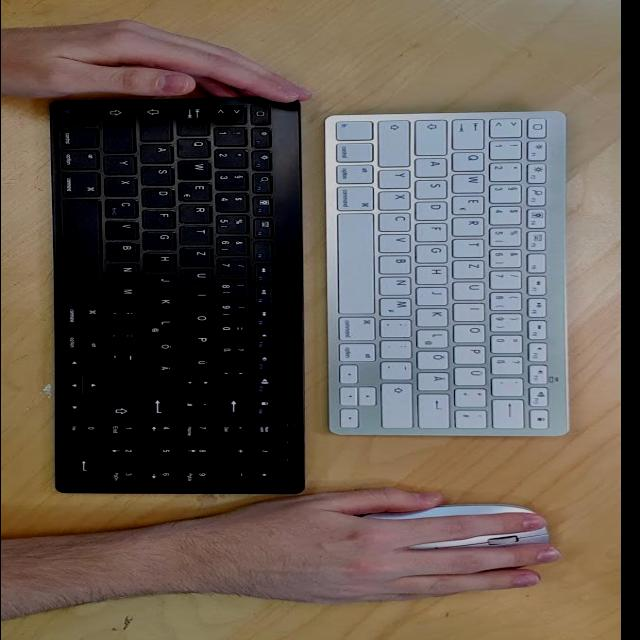0: (220, 320, 254, 340), (491, 334, 524, 352)
1: (491, 139, 525, 159), (217, 125, 250, 145)
2: (217, 148, 251, 168), (489, 163, 523, 182)
3: (217, 169, 251, 189), (491, 183, 525, 202)
4: (218, 191, 252, 211), (489, 206, 522, 224)
5: (218, 212, 253, 232), (490, 228, 523, 246)
6: (219, 234, 253, 254), (490, 249, 523, 267)
7: (219, 257, 253, 276), (492, 270, 525, 288)
8: (219, 277, 253, 297), (492, 291, 525, 310)
9: (492, 311, 526, 331), (220, 299, 254, 318)
a: (140, 143, 174, 163), (415, 157, 449, 177)
accent: (494, 376, 527, 395), (221, 364, 254, 382)
ae: (419, 371, 453, 390), (148, 359, 181, 377)
alt-left: (337, 164, 377, 184), (62, 151, 100, 170)
altgr-right: (338, 342, 378, 362), (66, 331, 104, 350)
b: (381, 253, 415, 273), (109, 240, 143, 260)
c: (107, 197, 142, 217), (381, 211, 415, 230)
comma: (110, 305, 144, 324), (382, 317, 416, 336)
d: (417, 200, 451, 220), (145, 186, 179, 206)
del: (220, 386, 254, 416), (495, 397, 528, 427)
e: (454, 194, 488, 214), (181, 180, 215, 200)
enter: (418, 392, 453, 428), (147, 381, 181, 416)
f: (145, 208, 179, 228), (417, 222, 450, 240)
g: (146, 230, 180, 249), (417, 242, 451, 261)
h: (146, 251, 180, 271), (418, 264, 451, 283)
hash: (457, 408, 490, 427), (183, 397, 217, 415)
i: (182, 288, 216, 307), (456, 301, 489, 320)
j: (147, 272, 181, 292), (418, 285, 451, 304)
k: (147, 294, 180, 313), (418, 307, 452, 325)
keyboard: (44, 95, 310, 499), (321, 111, 571, 442)
l: (147, 316, 180, 335), (418, 328, 452, 346)
less: (215, 103, 249, 123), (489, 118, 522, 138)
m: (109, 283, 144, 303), (382, 296, 416, 316)
minus: (111, 348, 144, 367), (383, 360, 416, 379)
n: (109, 261, 143, 281), (382, 275, 415, 294)
o: (183, 309, 217, 329), (456, 322, 489, 341)
oe: (147, 337, 181, 356), (419, 349, 452, 368)
p: (183, 331, 217, 350), (456, 344, 489, 363)
plus: (183, 374, 217, 393), (457, 387, 490, 406)
point: (111, 327, 144, 346), (383, 339, 416, 357)
q: (180, 136, 215, 156), (451, 152, 485, 172)
r: (181, 202, 215, 222), (454, 216, 488, 236)
s: (144, 164, 178, 184), (417, 178, 451, 198)
shift-left: (102, 102, 137, 154), (378, 119, 412, 167)
shift-lock: (417, 118, 451, 154), (142, 104, 176, 140)
shift-right: (383, 382, 417, 428), (110, 370, 144, 416)
space: (66, 199, 106, 301), (339, 213, 379, 313)
ss: (220, 342, 254, 361), (493, 355, 526, 373)
strg-left: (337, 142, 377, 162), (61, 128, 99, 147)
t: (182, 224, 216, 243), (455, 238, 488, 256)
tab: (179, 103, 214, 135), (454, 117, 488, 149)
u: (182, 266, 217, 286), (455, 280, 489, 299)
ue: (456, 365, 490, 384), (184, 353, 217, 371)
v: (108, 219, 143, 239), (381, 232, 415, 252)
w: (181, 158, 216, 178), (454, 172, 488, 192)
x: (106, 176, 141, 196), (379, 191, 412, 210)
y: (106, 154, 141, 174), (379, 170, 412, 189)
z: (182, 245, 216, 265), (455, 259, 488, 277)
